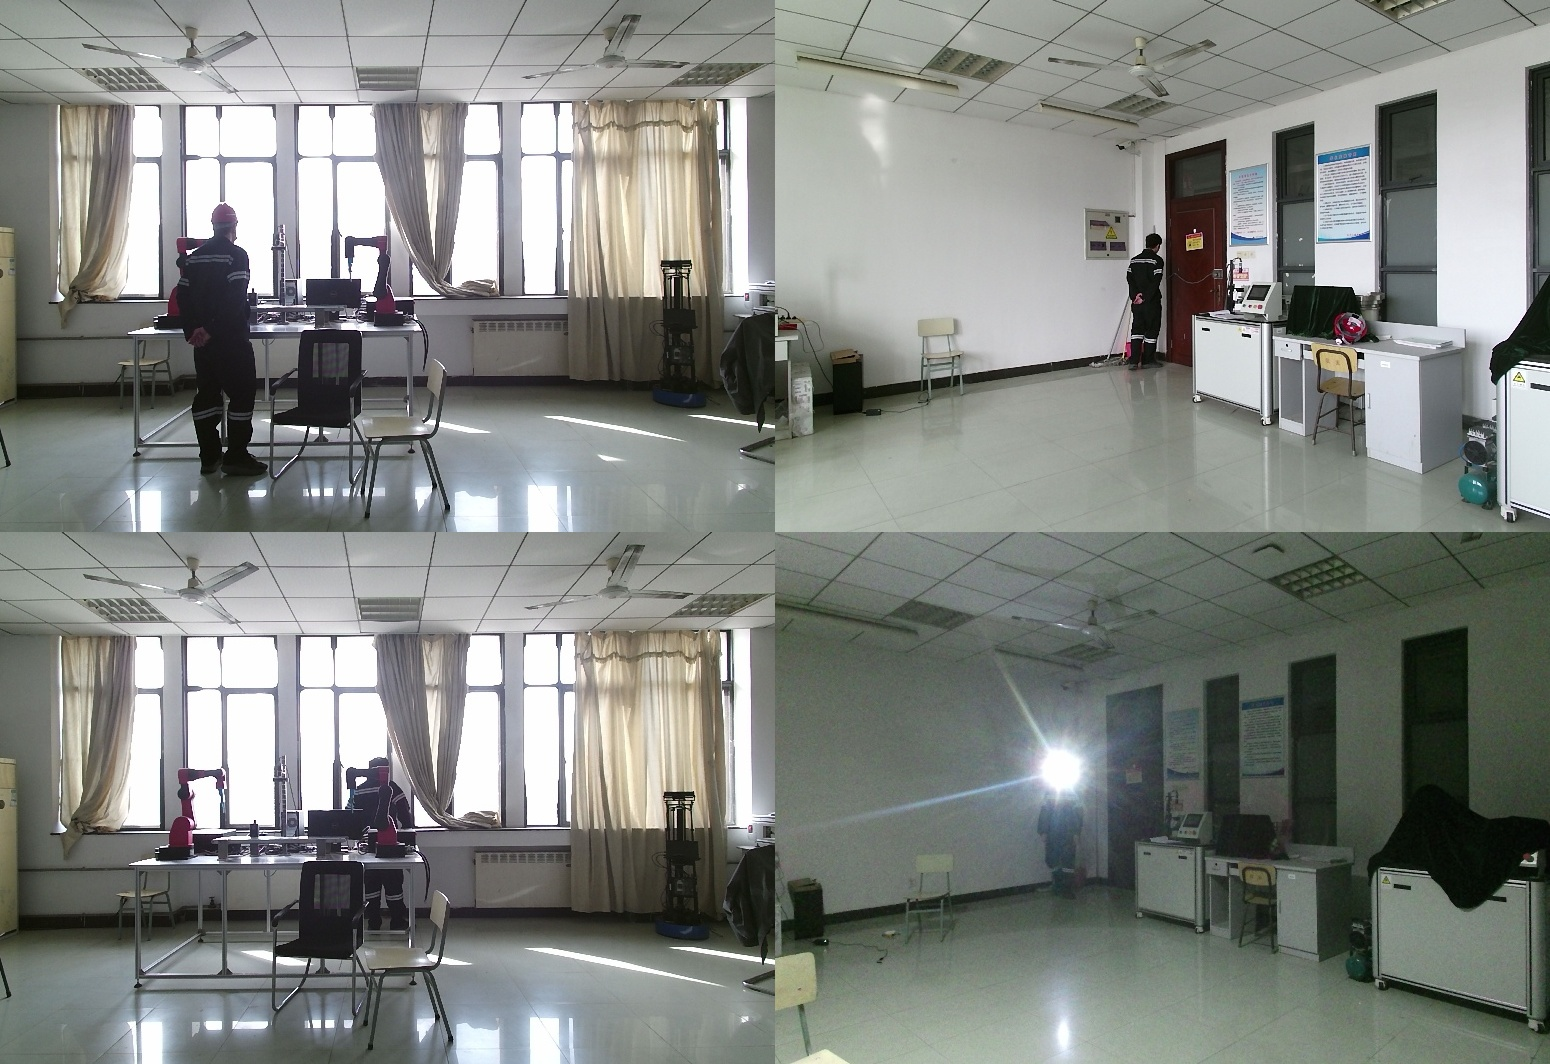person: (174, 204, 272, 479), (345, 758, 418, 951), (1023, 767, 1076, 905), (1123, 231, 1167, 371)
